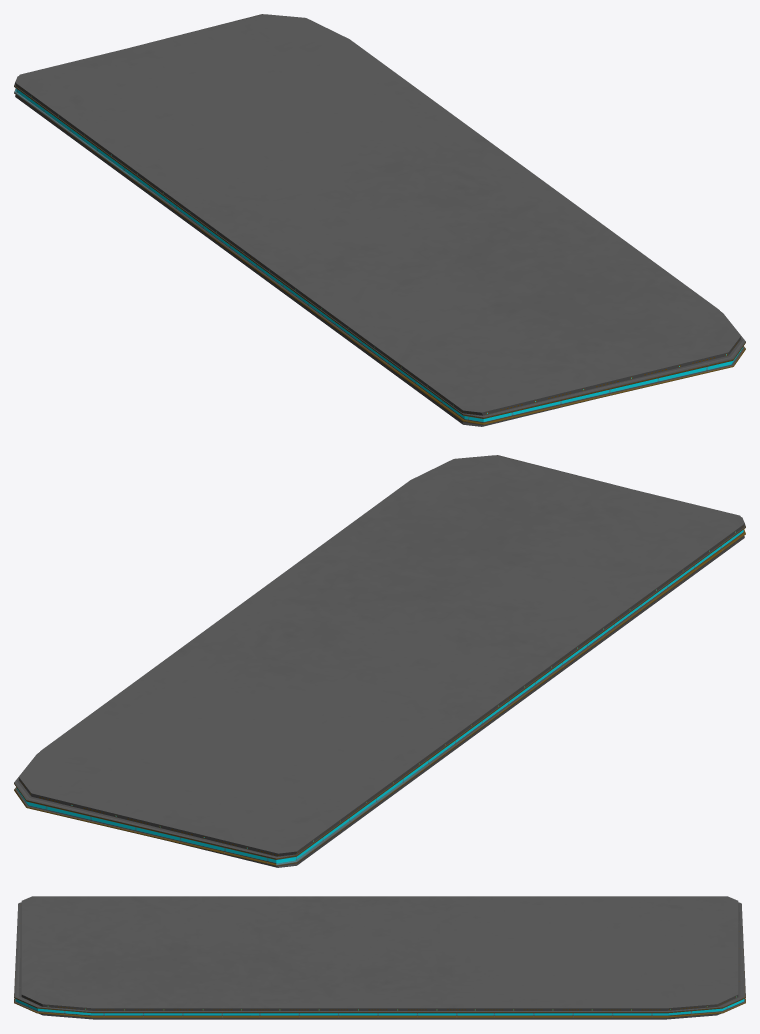
Rendered from platform.obj.
3 views of the same model, one above another, from view 1: azimuth 30°, elevation 25°; view 2: azimuth 150°, elevation 25°; view 3: azimuth 270°, elevation 25° (orthographic). The views are drawn at different scales.
Parts seen in each view (by area): view 1: Plantform corroridor_4; view 2: Plantform corroridor_4; view 3: Plantform corroridor_4.
Part boxes in pixels (<box>): Plantform corroridor_4: <box>14,14,745,426</box>; Plantform corroridor_4: <box>14,455,745,867</box>; Plantform corroridor_4: <box>14,896,745,1019</box>.
Bounding box in the file's own units: 9.47 × 0.6051 × 25.88.
Materials: 1 (1 with a texture image).
